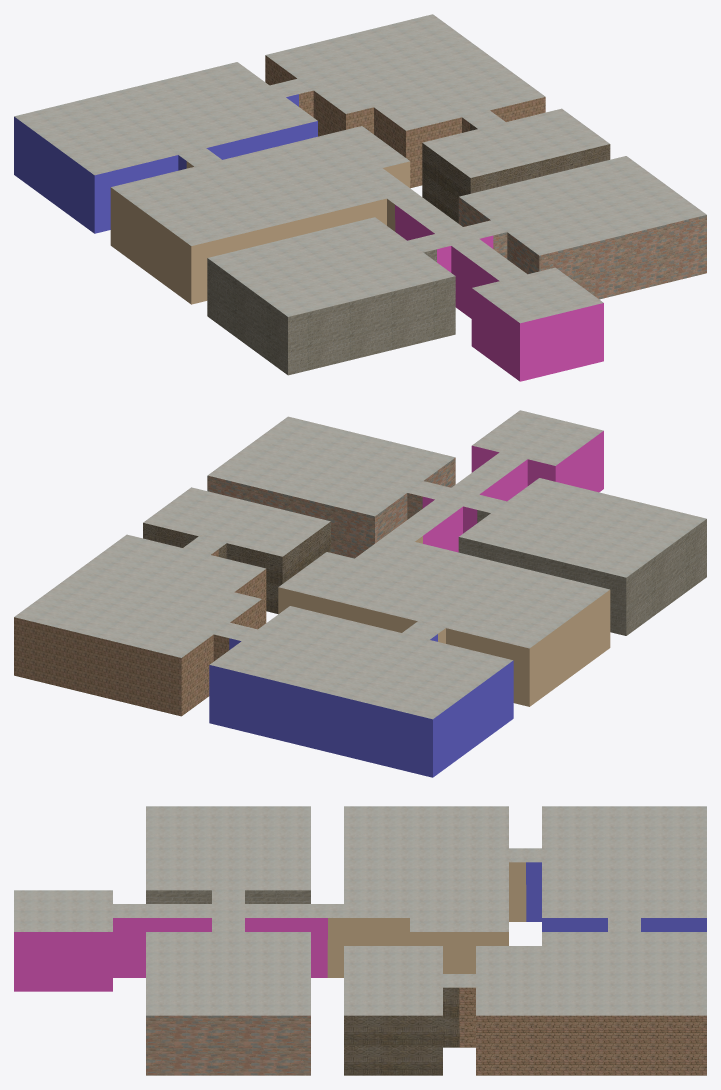
The model's file is Room.FBX.
3 views of the same model, one above another, from view 1: azimuth 30°, elevation 25°; view 2: azimuth 150°, elevation 25°; view 3: azimuth 270°, elevation 25° (orthographic). The views are drawn at different scales.
Visible parts, largest first — view 1: Plane001; view 2: Plane001; view 3: Plane001.
Part boxes in pixels (x1,y1,x2,y2): Plane001: (14, 14, 706, 381); Plane001: (14, 410, 706, 777); Plane001: (14, 806, 706, 1075).
Size of the model in its own units: 3000 by 400 by 4200.
